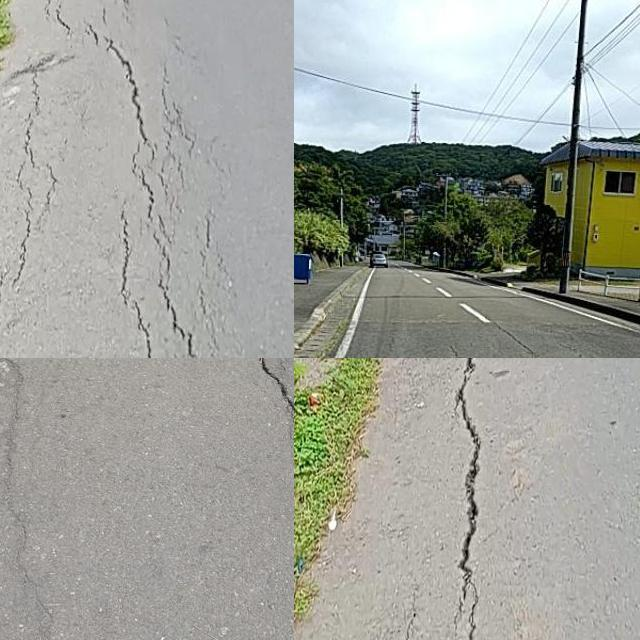Memanjang: (0, 77, 63, 358), (442, 358, 491, 640), (90, 21, 170, 151), (108, 210, 163, 358)
